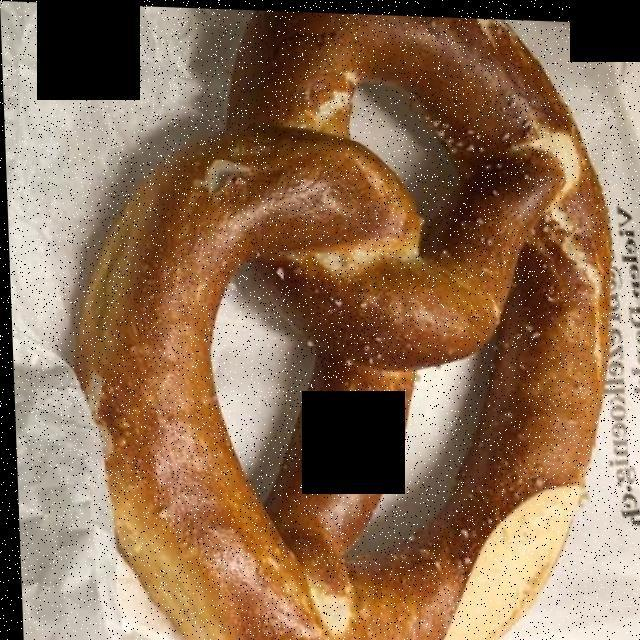pretzel: (79, 17, 607, 640)
